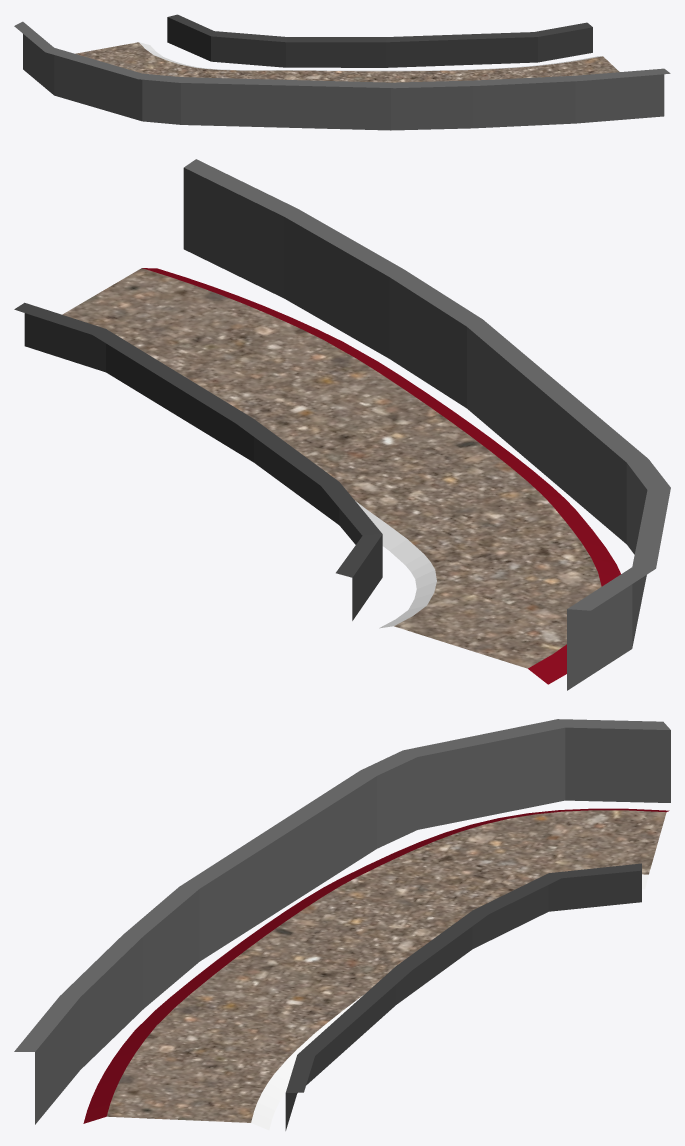
The model's file is KartTrackS32.fbx.
3 renders of one model, top to bottom at view 1: azimuth 30°, elevation 25°; view 2: azimuth 150°, elevation 25°; view 3: azimuth 270°, elevation 25°, orthographic. The views are drawn at different scales.
Parts seen in each view (by area): view 1: PistaS32; view 2: PistaS32; view 3: PistaS32.
Part boxes in pixels (<box>): PistaS32: <box>14,14,670,130</box>; PistaS32: <box>14,159,670,690</box>; PistaS32: <box>14,719,670,1130</box>.
Bounding box in the file's own units: 7508 × 749 × 6109.
